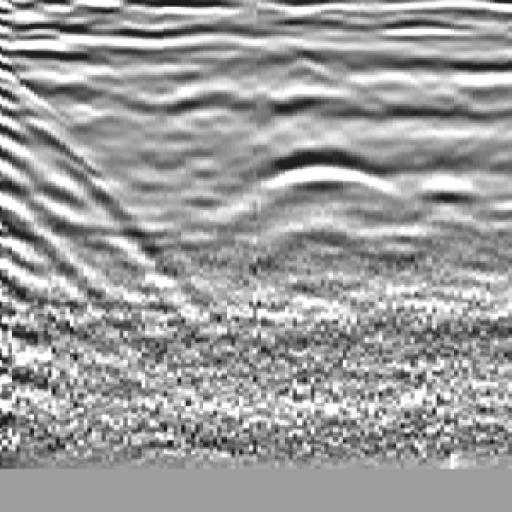metalic: (220, 35, 414, 282)
nonmetalic: (1, 36, 95, 259)
